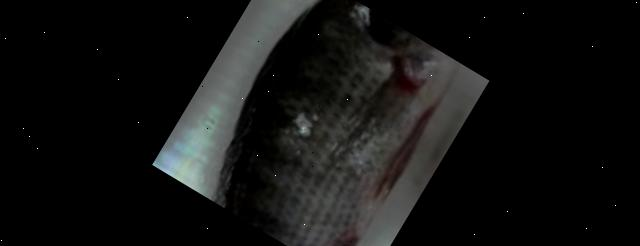Tilapia Lake Virus -TiLV-: (213, 0, 455, 246)
